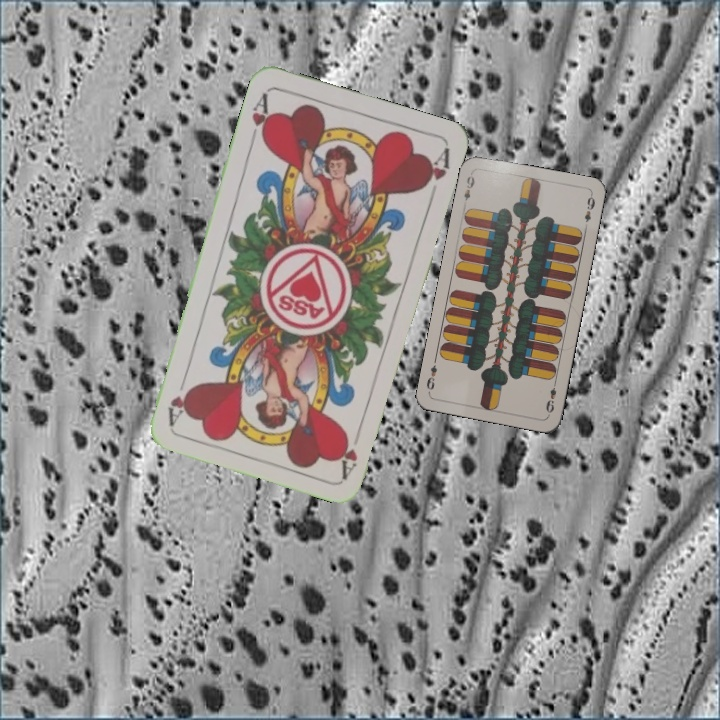E9: (459, 169, 477, 209), (542, 377, 559, 415)
HA: (334, 421, 365, 480), (246, 88, 275, 147)
